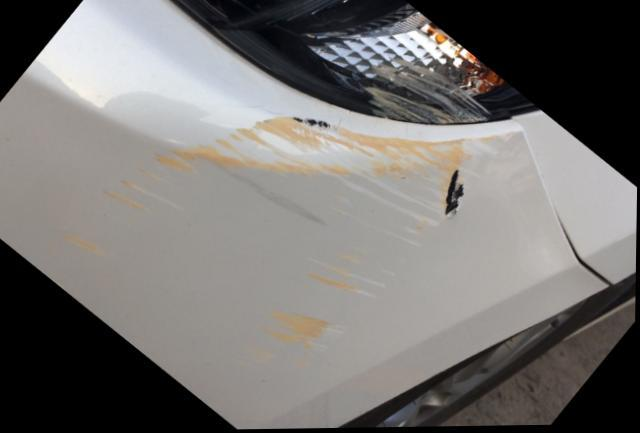scratch: (63, 116, 514, 376), (361, 60, 493, 125)
